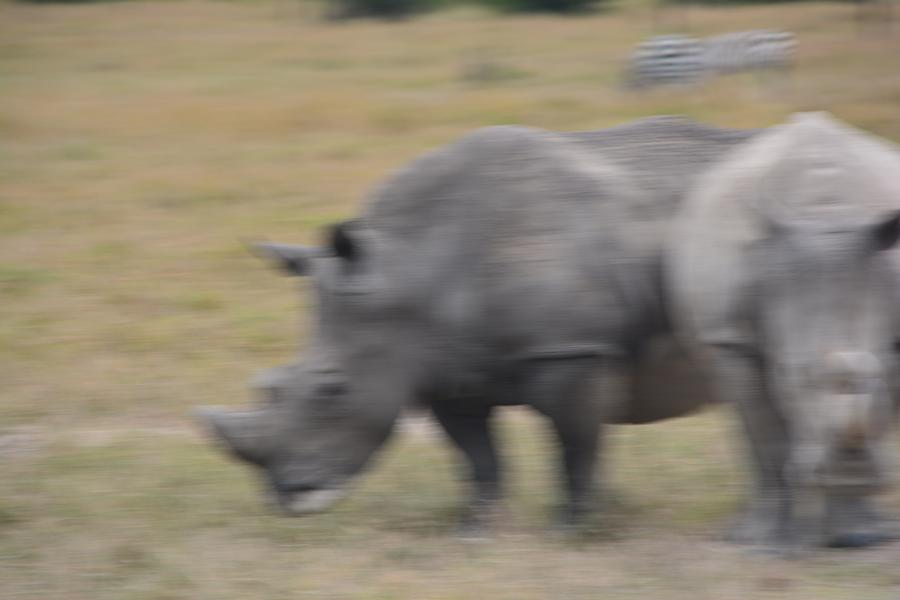rhino: (232, 107, 670, 524), (693, 107, 891, 530)
